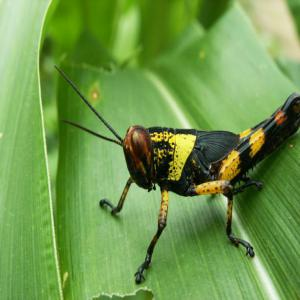locust: (63, 71, 300, 278)
